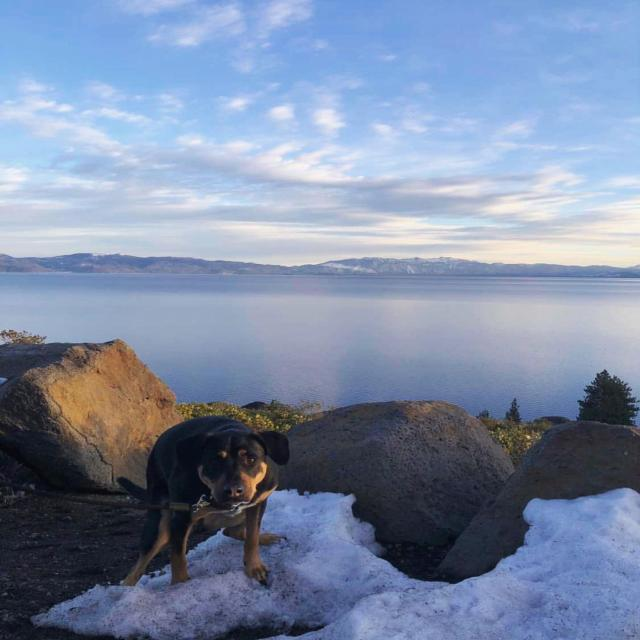squatting: (103, 407, 305, 590)
